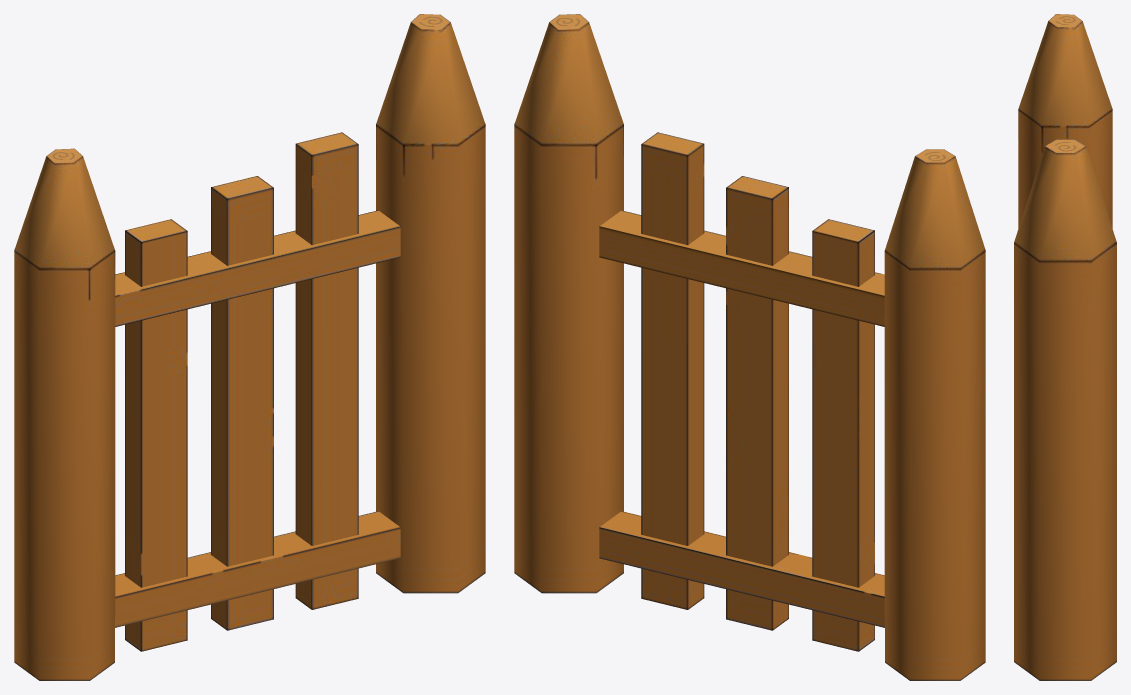
Rendered from mumen_001.fbx.
3 views of the same model, side by side, from view 1: azimuth 30°, elevation 25°; view 2: azimuth 150°, elevation 25°; view 3: azimuth 270°, elevation 25° (orthographic). The views are drawn at different scales.
Parts seen in each view (by area): view 1: mumen_001; view 2: mumen_001; view 3: mumen_001.
Boxes of the visible parts, <box> form: mumen_001: <box>14,14,485,680</box>; mumen_001: <box>514,14,985,680</box>; mumen_001: <box>1014,14,1116,680</box>.
Bounding box in the file's own units: 82.07 × 97.09 × 17.55.
